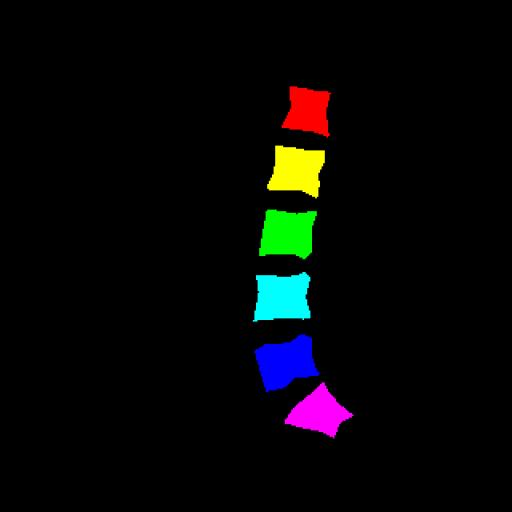L1: (282, 86, 331, 136)
L2: (267, 145, 325, 198)
L3: (259, 210, 317, 259)
L4: (254, 272, 310, 320)
L5: (255, 334, 319, 392)
S1: (285, 382, 353, 438)
